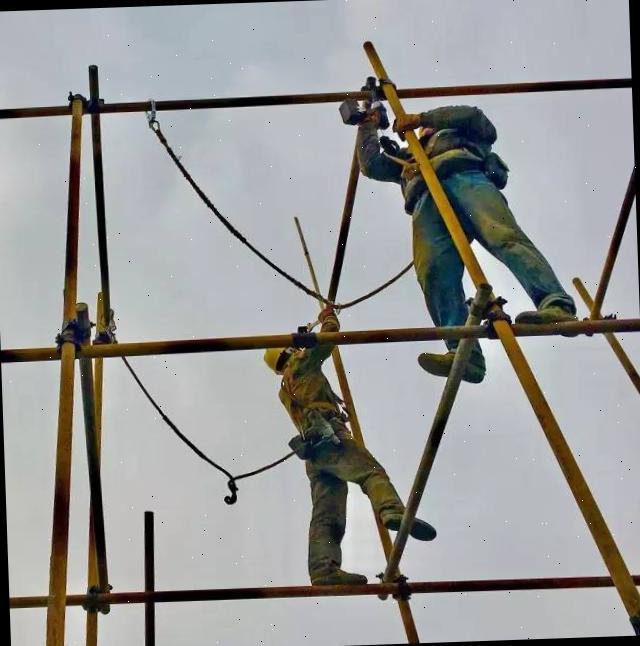helmet: (255, 333, 300, 376)
